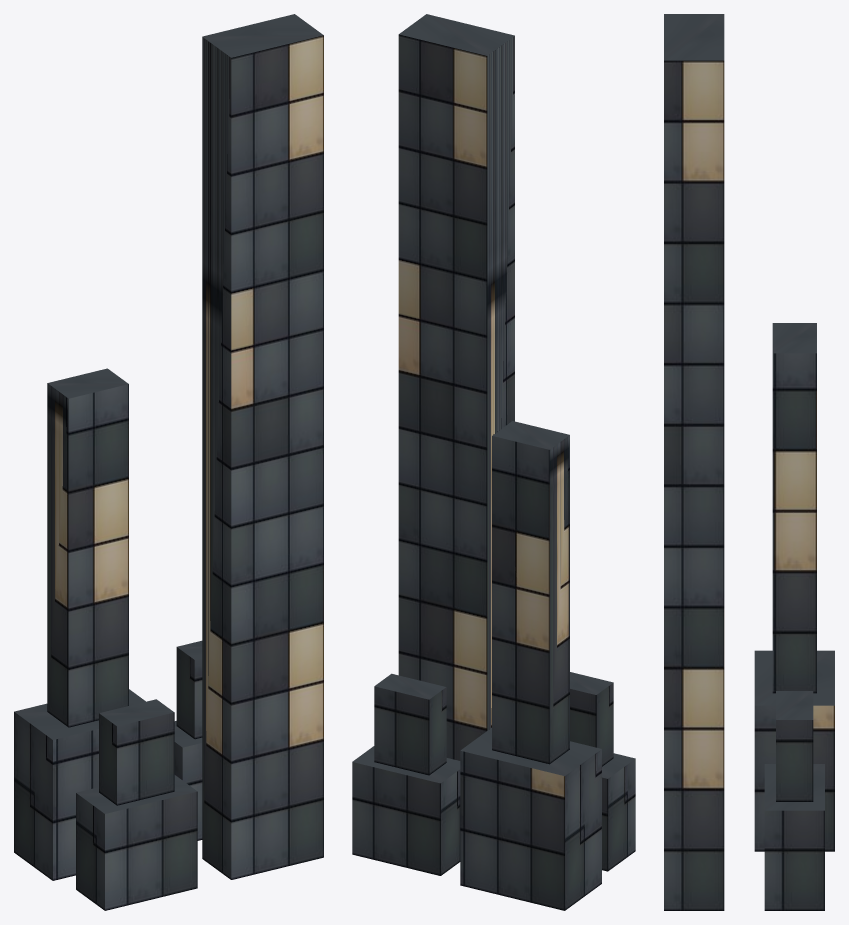
The model's file is block_20.obj.
The picture shows the model from 3 angles, left to right: view 1: azimuth 30°, elevation 25°; view 2: azimuth 150°, elevation 25°; view 3: azimuth 270°, elevation 25°; orthographic projection. The views are drawn at different scales.
Parts seen in each view (by area): view 1: b3, b0, b1, b2; view 2: b3, b0, b2, b1; view 3: b3, b0, b2.
Part boxes in pixels (<box>): b3: <box>202,14,323,879</box>; b0: <box>14,368,145,880</box>; b1: <box>76,699,197,910</box>; b2: <box>174,640,202,840</box>; b3: <box>398,14,514,760</box>; b0: <box>460,421,601,910</box>; b2: <box>352,673,460,875</box>; b1: <box>570,672,635,871</box>; b3: <box>664,14,724,910</box>; b0: <box>754,323,834,851</box>; b2: <box>764,691,824,910</box>.
Size of the model in its own units: 4.05 by 14 by 2.55.
